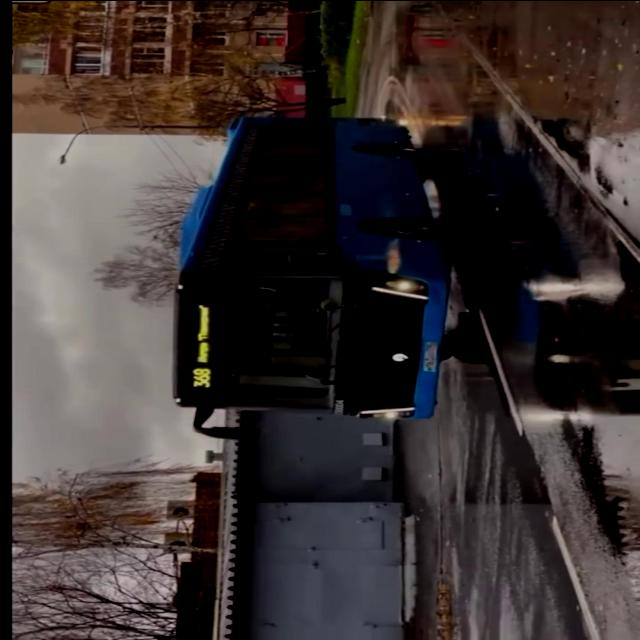bus: (164, 113, 464, 443)
